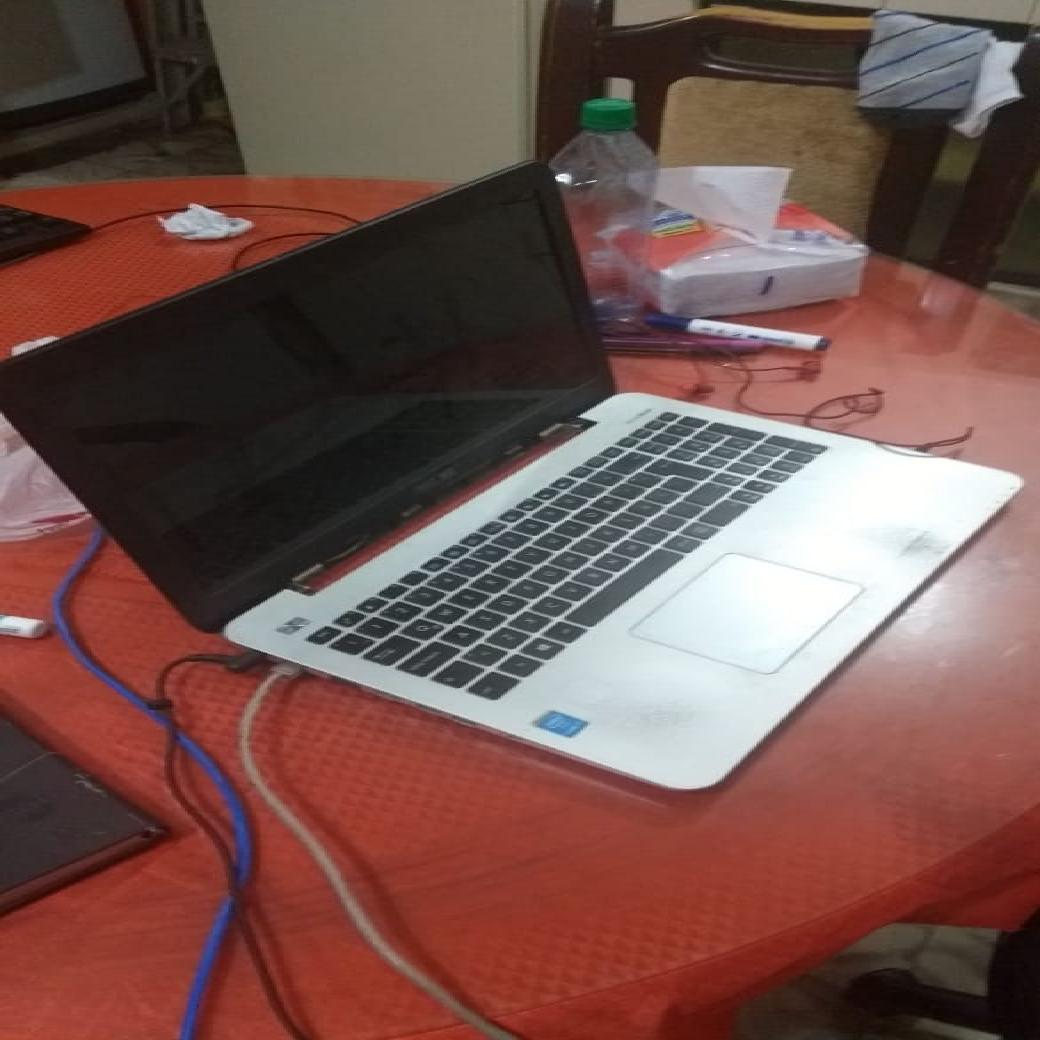laptop: (1, 161, 1028, 797)
